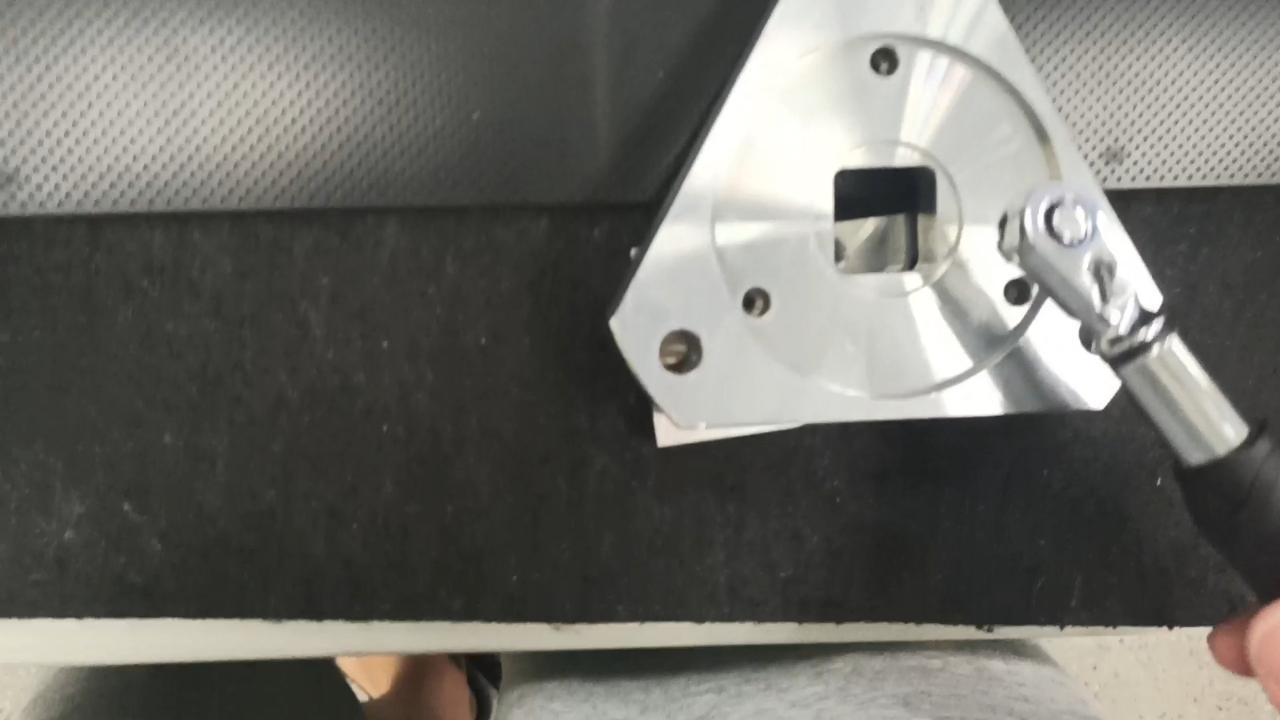Tool: (1012, 184, 1156, 354)
hole: (651, 315, 713, 389), (733, 283, 777, 321), (863, 38, 902, 79), (995, 273, 1035, 312)
